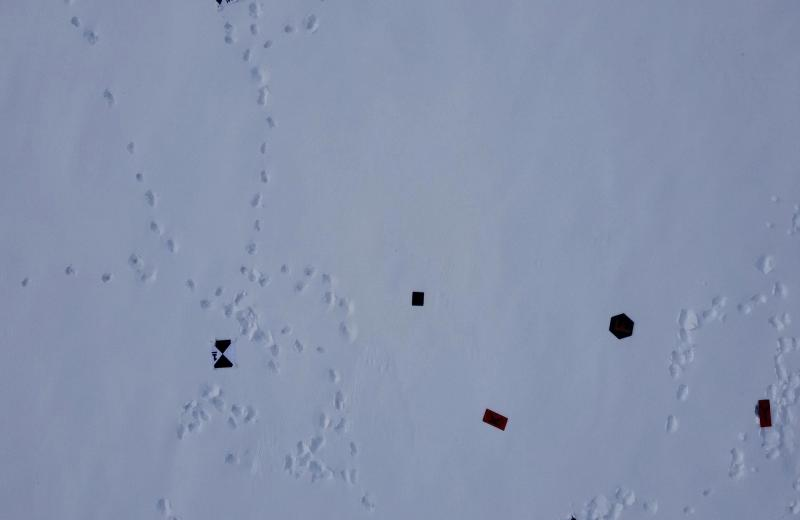Hexagon: (606, 307, 636, 342)
Rectangle: (479, 403, 507, 438), (751, 399, 780, 431)
Square: (410, 288, 432, 312)
